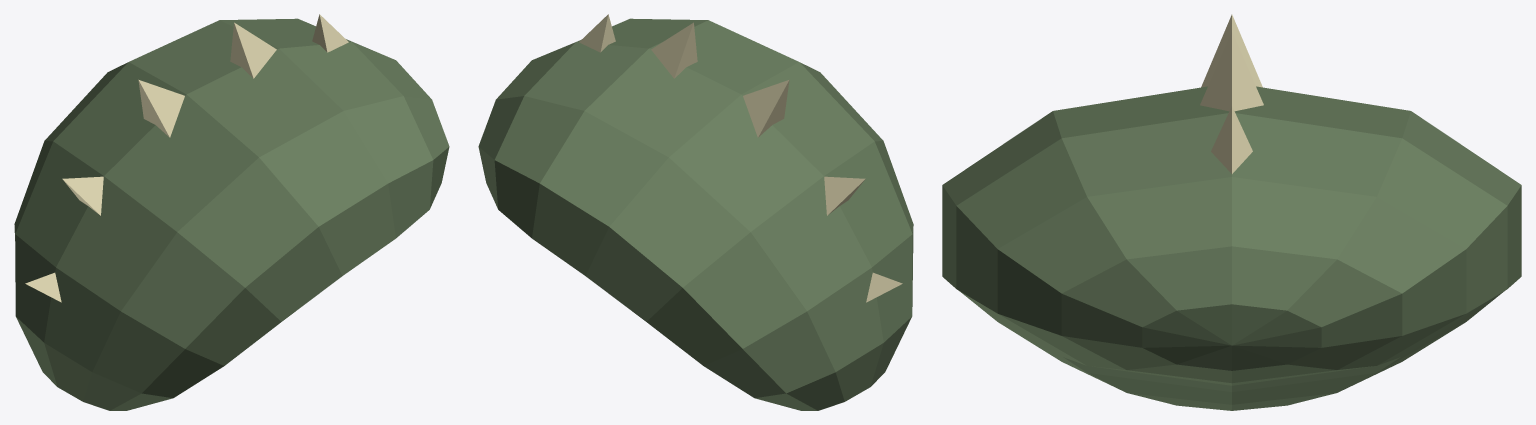
Rendered from Thorax.fbx.
3 renders of one model, left to right at view 1: azimuth 30°, elevation 25°; view 2: azimuth 150°, elevation 25°; view 3: azimuth 270°, elevation 25°, orthographic. The views are drawn at different scales.
Parts seen in each view (by area): view 1: pCone20; view 2: pCone20; view 3: pCone20.
Boxes of the visible parts, x1,y1,x2,y2 form: pCone20: [14, 14, 449, 410]; pCone20: [478, 14, 913, 410]; pCone20: [942, 14, 1521, 410].
Size of the model in its own units: 4.93 by 4.13 by 4.64.
